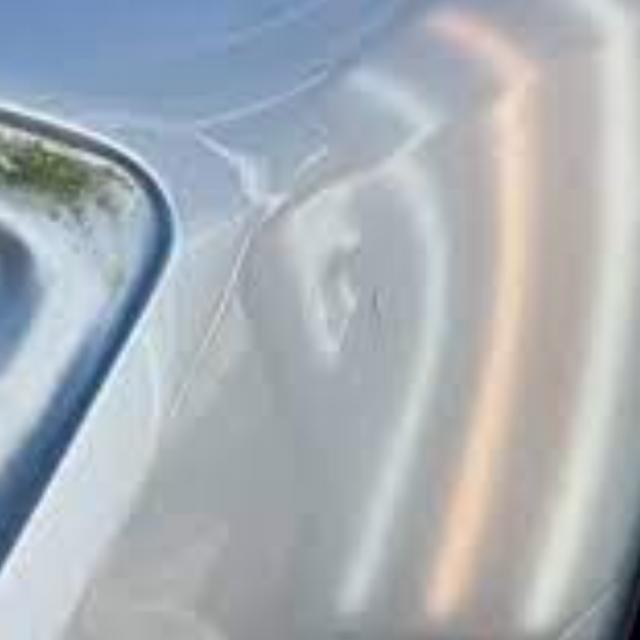dents: (264, 227, 376, 373)
